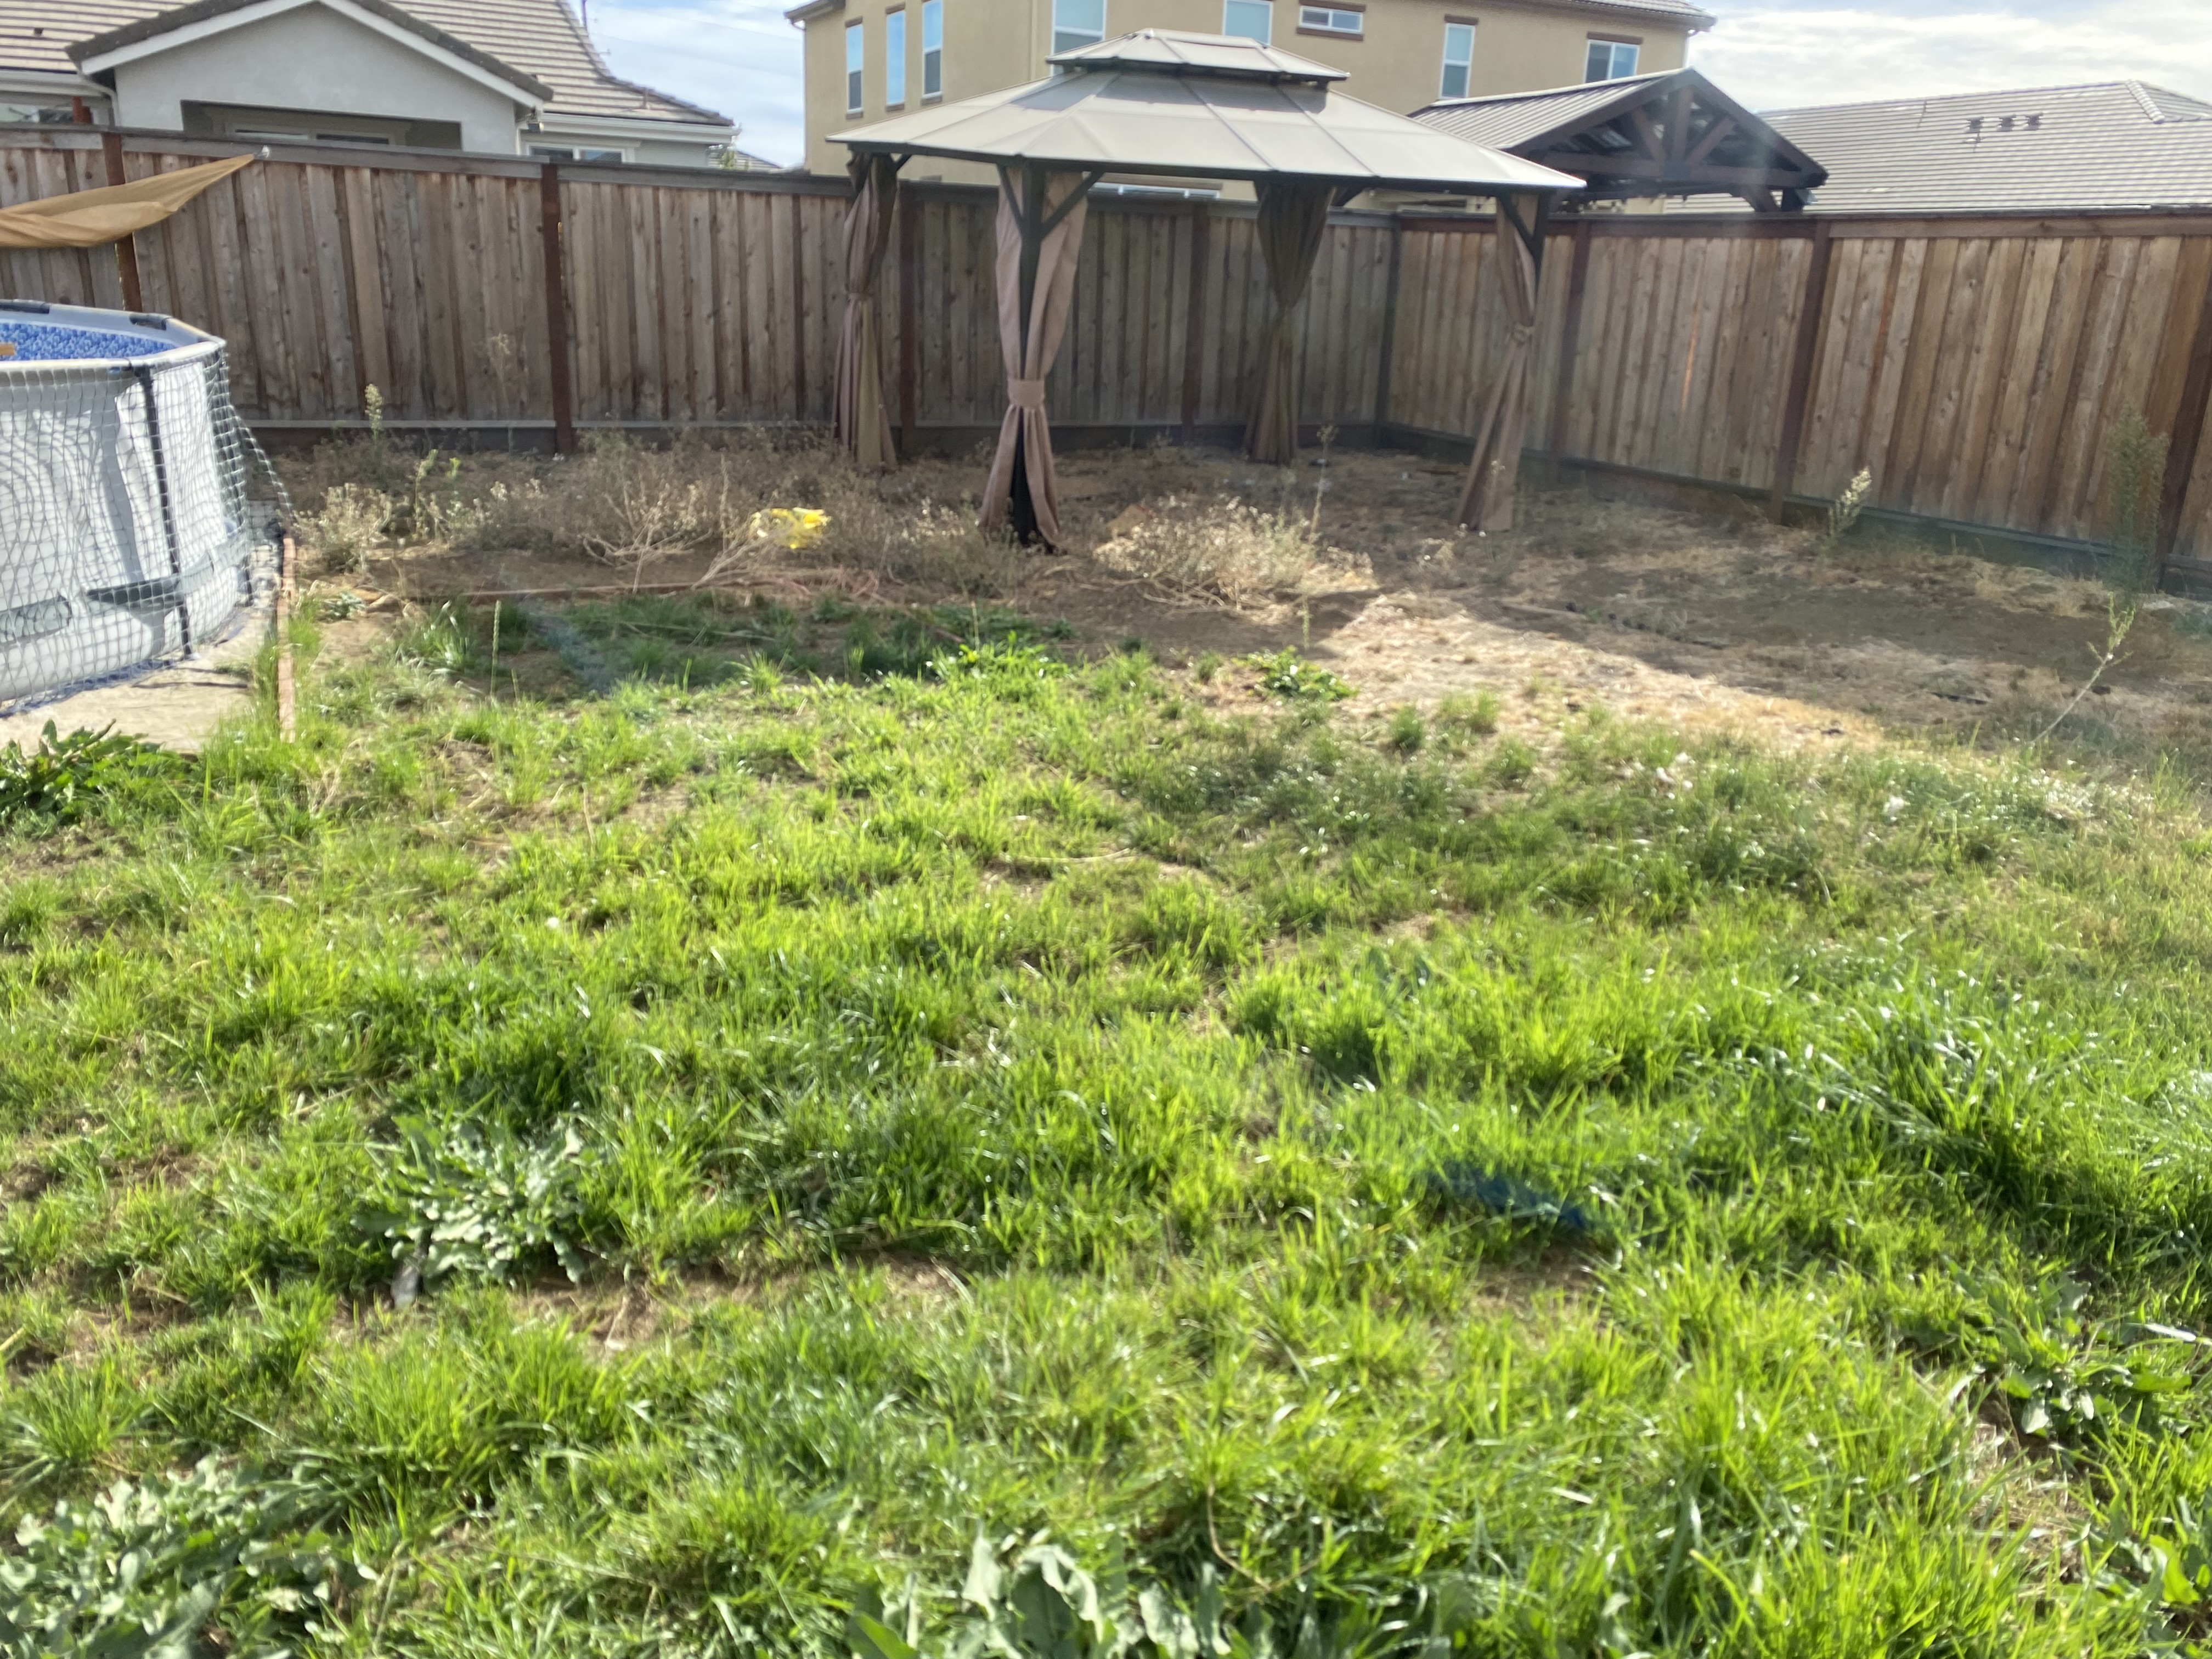weed: (878, 1516, 1508, 1659), (24, 1455, 357, 1659), (368, 1094, 639, 1258), (16, 727, 157, 802)
